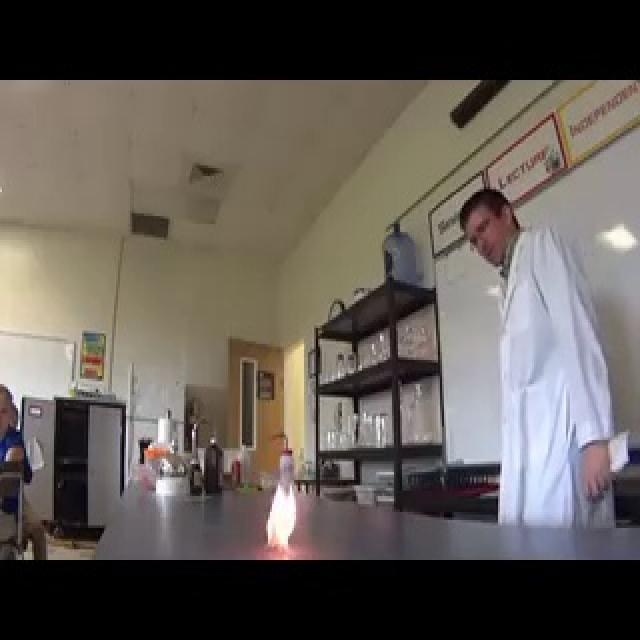fire: (257, 437, 311, 552)
